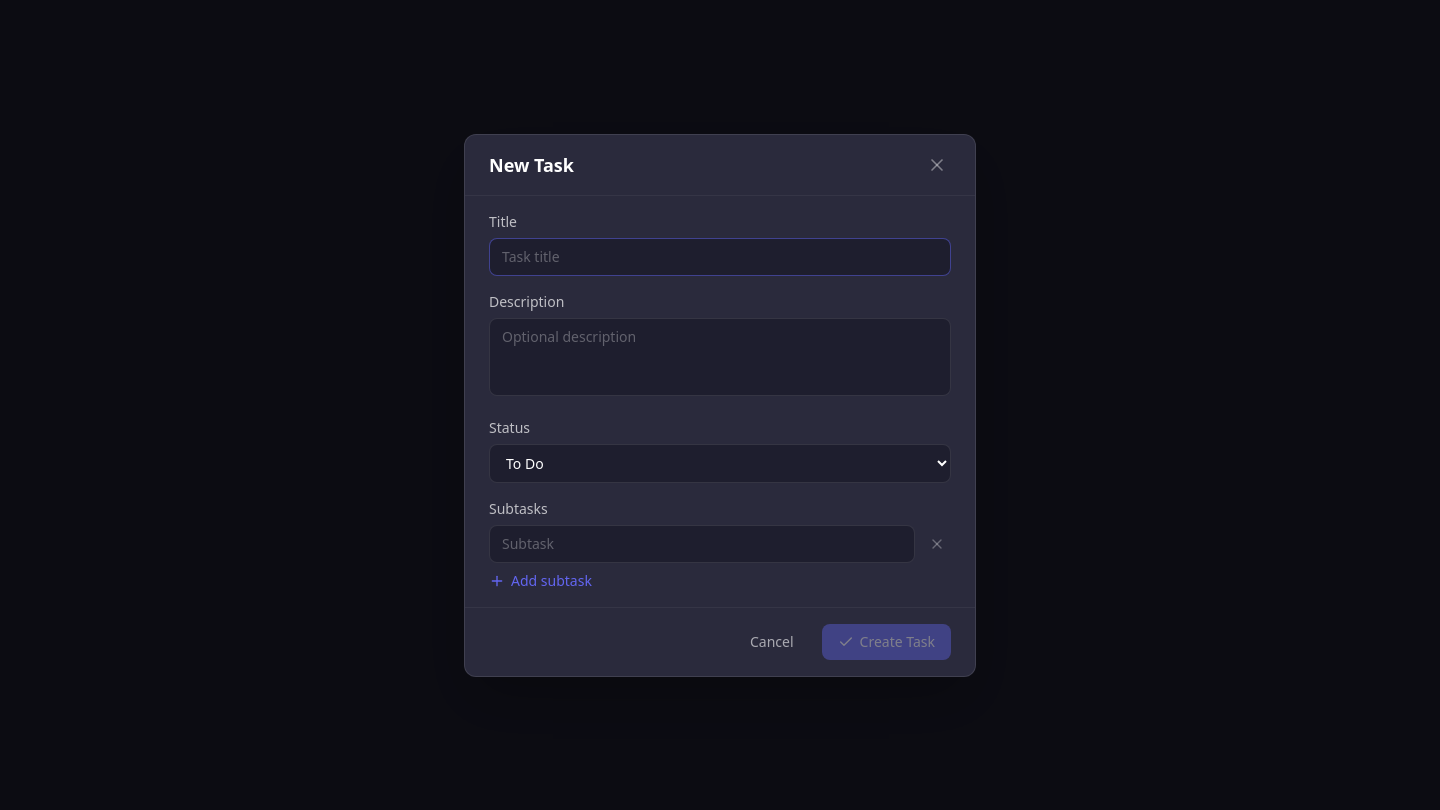
Test: TaskModal - Create › adds a subtask input when add subtask is clicked
This screenshot has width=1440, height=810.
Check: the number of fields with placeholder "Subtask" is 1, box [489,524,915,562]
Click the button "Add subtask".
click(540, 580)  # box [489,570,592,590]
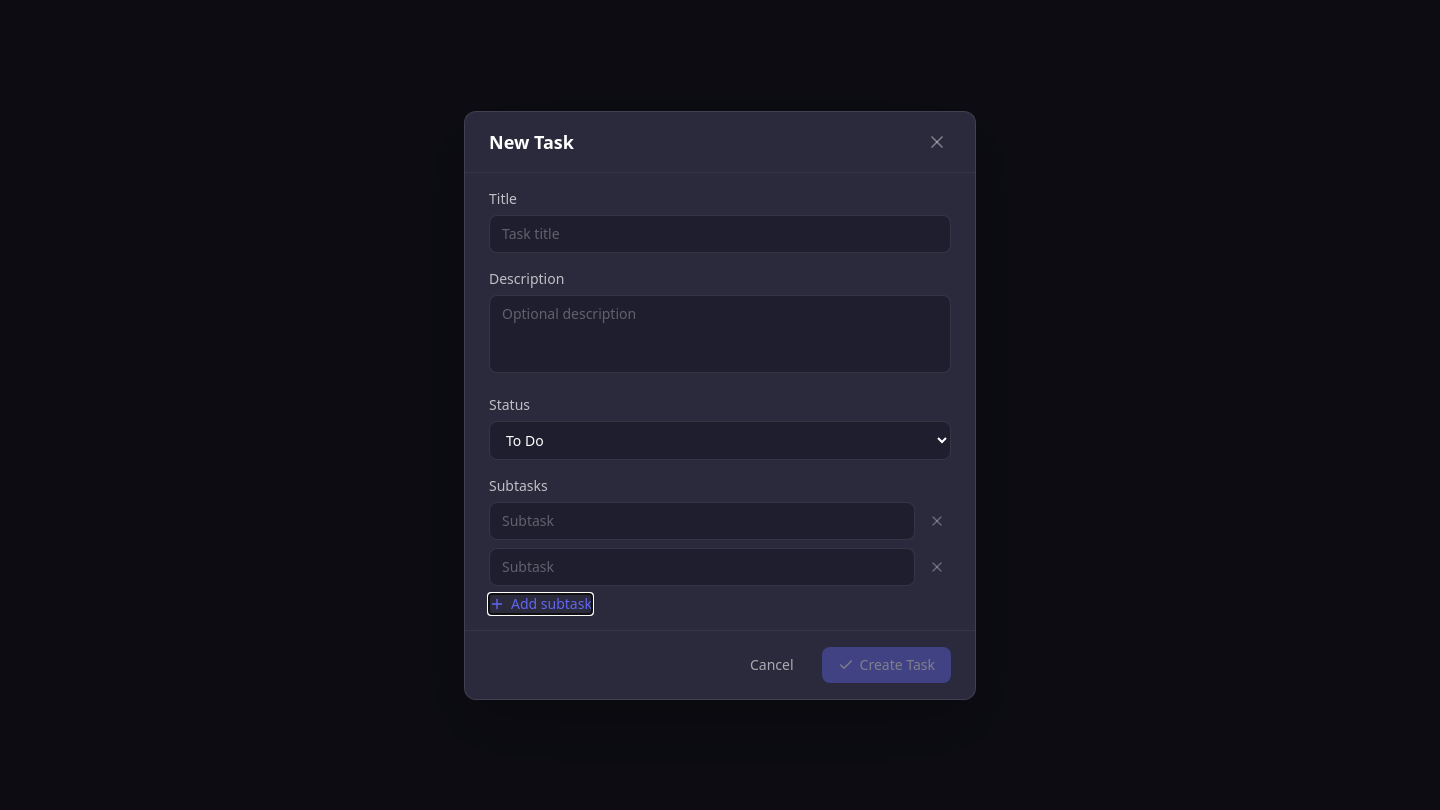
Check: the number of fields with placeholder "Subtask" is 2, box [489,502,915,540]; [489,548,915,586]
